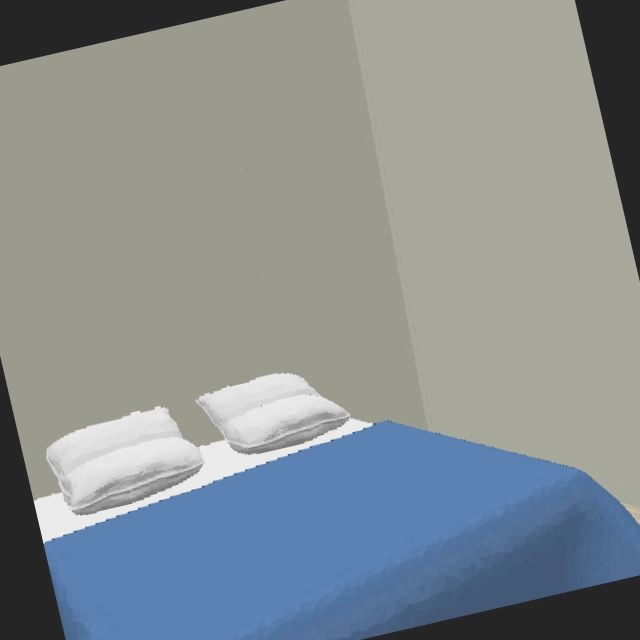bed: (34, 374, 640, 640)
pillow: (47, 407, 204, 516), (195, 372, 371, 456)
